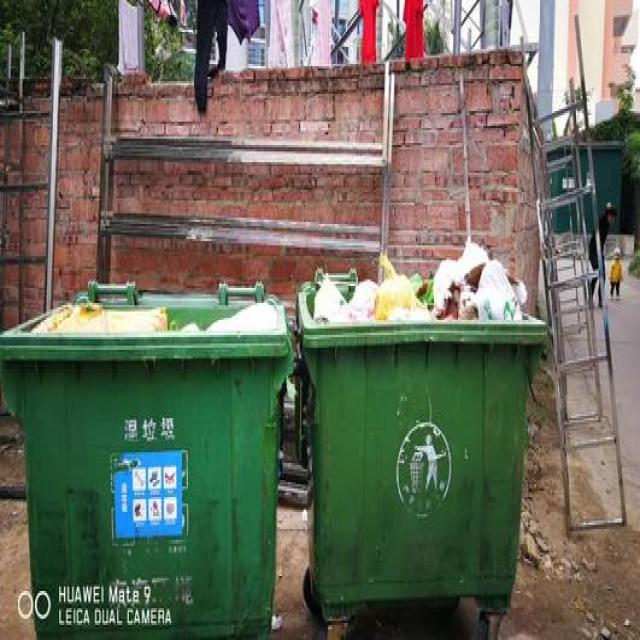overflow: (0, 279, 292, 638), (296, 234, 544, 616)
